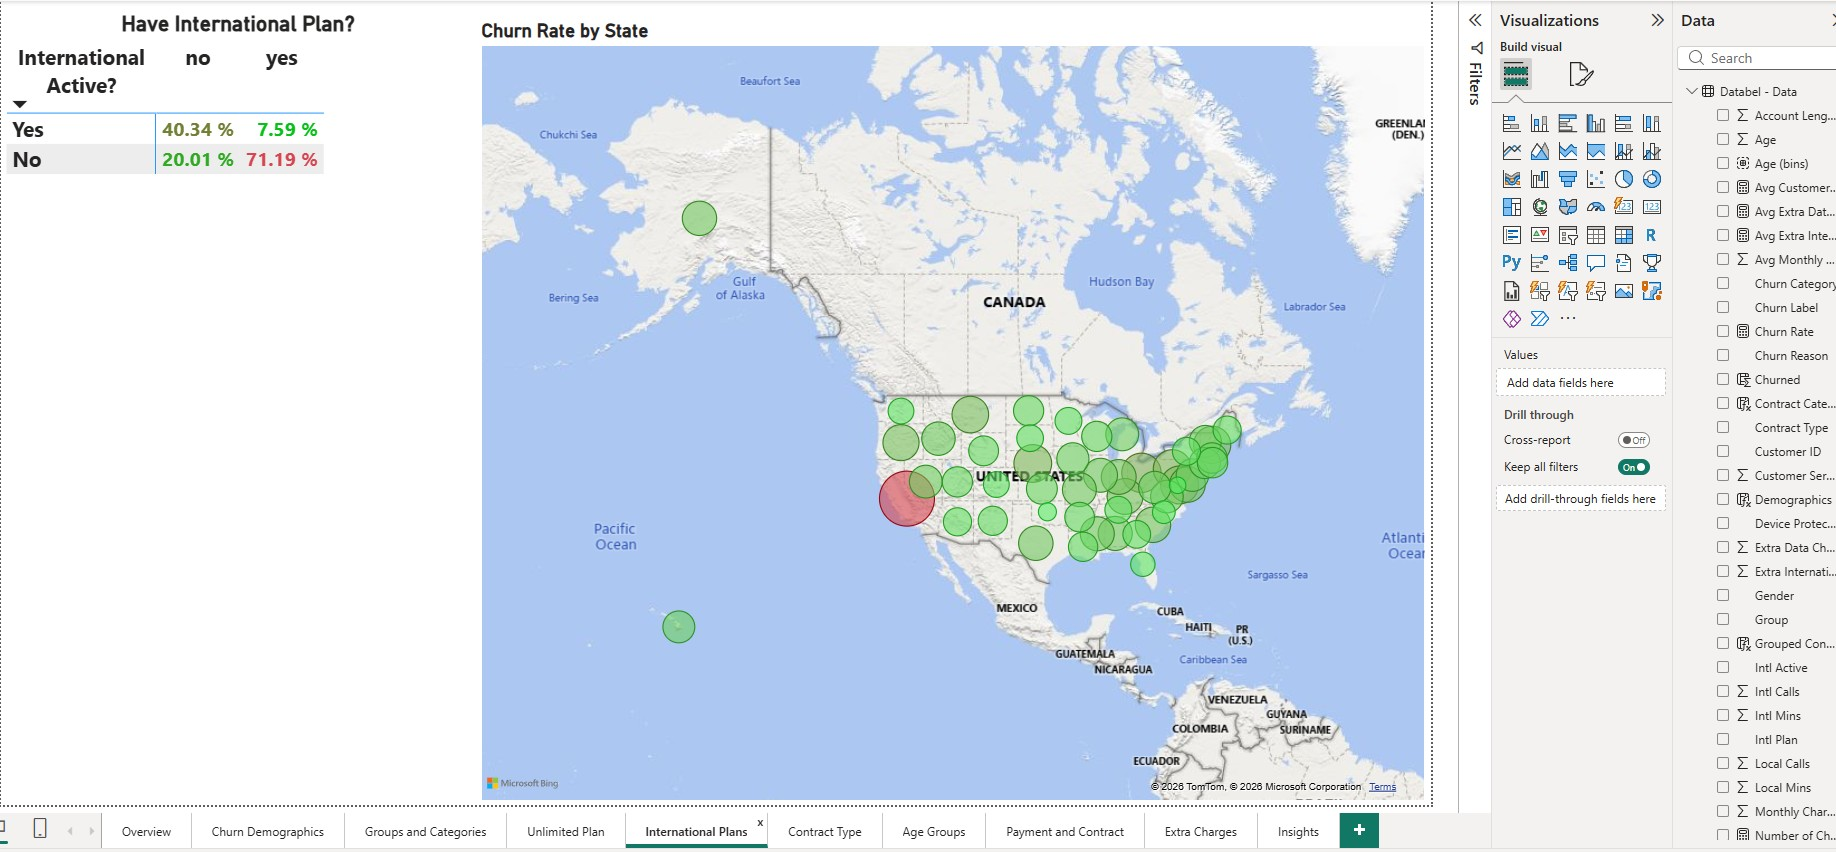

This screenshot's page, from the dashboard's own definition file:
{"tool":"powerbi","page":{"name":"International Plans","canvas":[1280,720],"ordinal":4},"visuals":[{"type":"pivotTable","title":"Have International Plan?","fields":{"Rows":["Databel - Data.Intl Active"],"Values":["Databel - Data.Churn Rate"],"Columns":["Databel - Data.Intl Plan"]},"box":[0,9,425.4,223],"z":0},{"type":"map","fields":{"Category":["Databel - Data.State"],"Size":["Databel - Data.Churn Rate"]},"box":[425.4,16.1,854.3,703.9],"z":1000}]}

Visuals, with their boxes on the page's 1280x720 design canvas (x1, y1, x2, y2). These are canvas units, not pixel positions in the 1836x852 screenshot, which may show the page scaled, cropped or inside an application window:
"Have International Plan?" pivotTable: left=0, top=9, right=425, bottom=232
map - Databel - Data.State x Databel - Data.Churn Rate: left=425, top=16, right=1280, bottom=720
